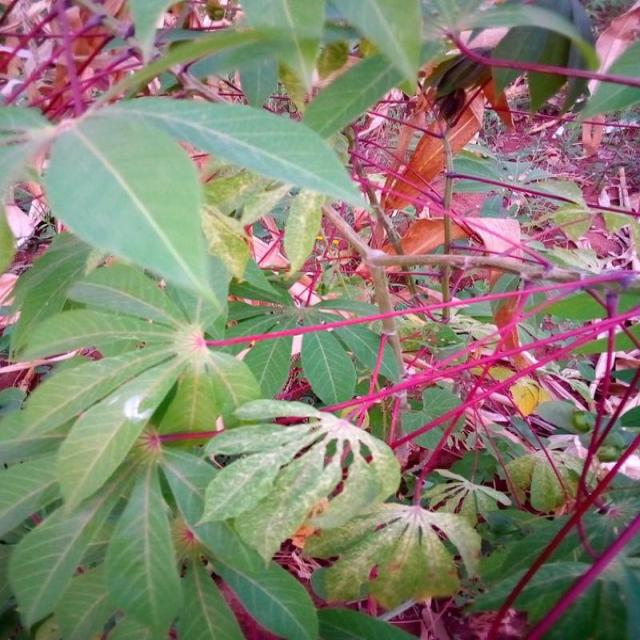cassava leaf: (0, 1, 638, 638), (41, 108, 231, 332)
